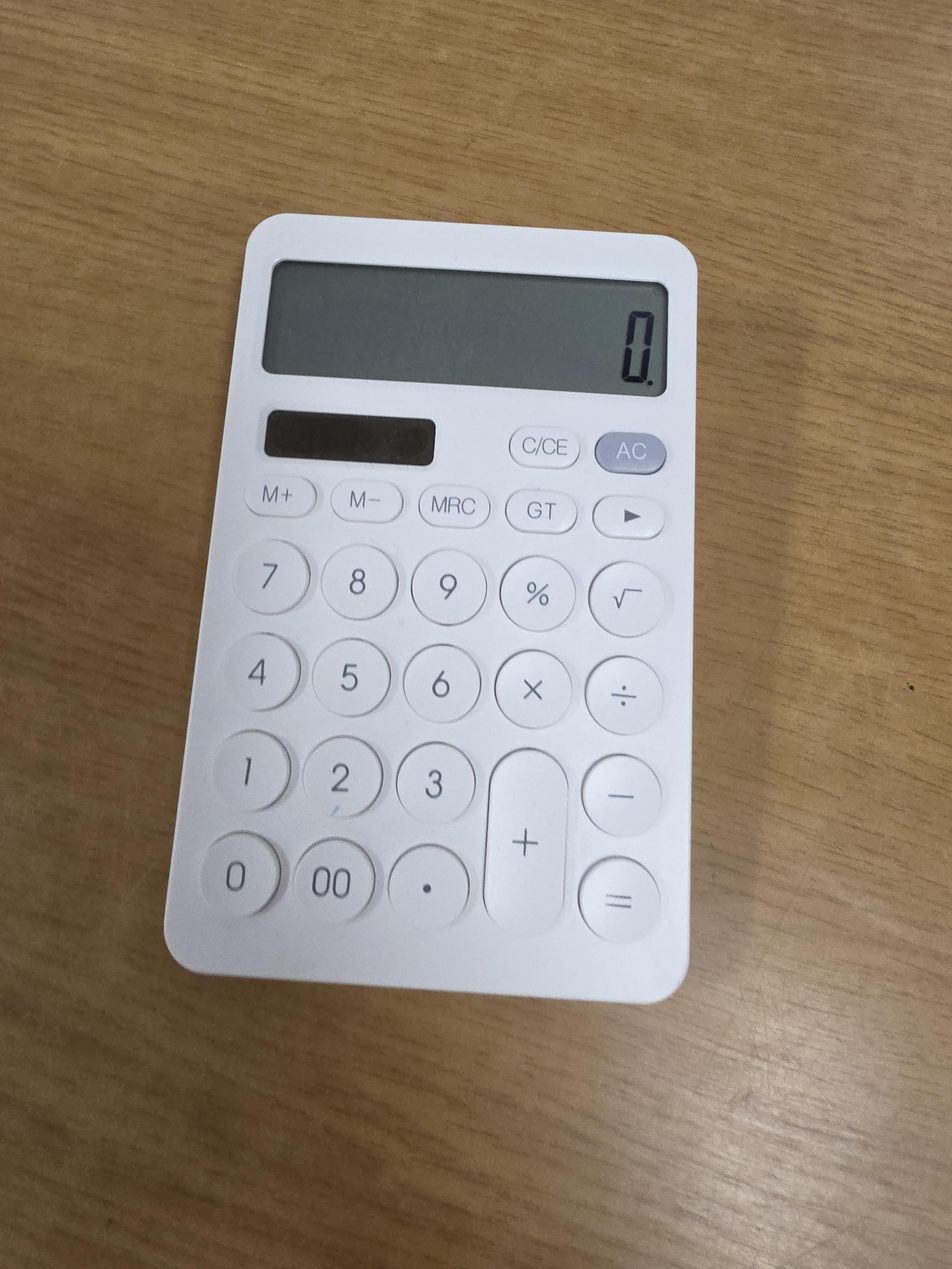calculator: (162, 213, 697, 1005)
